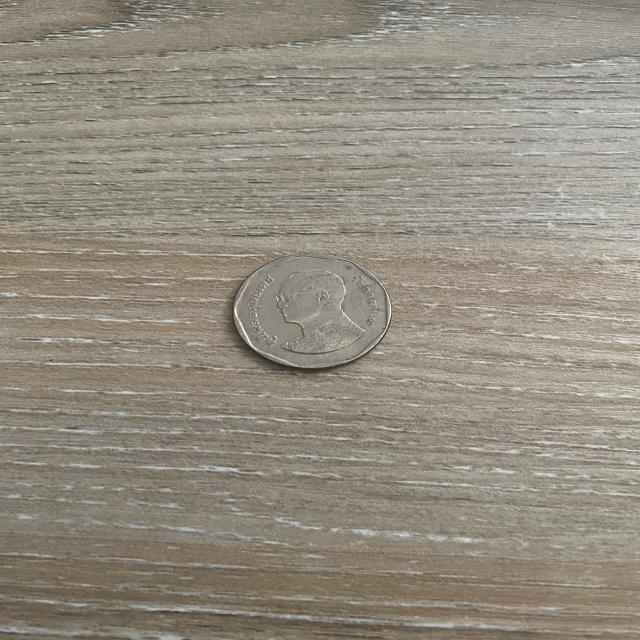5 Bath: (222, 249, 405, 381)
